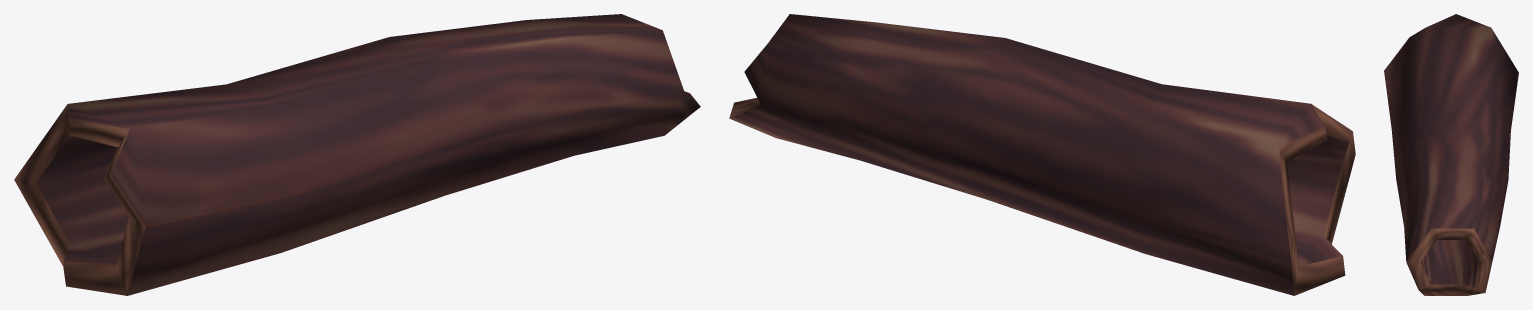
The model's file is pine-log-40.glb.
3 renders of one model, left to right at view 1: azimuth 30°, elevation 25°; view 2: azimuth 150°, elevation 25°; view 3: azimuth 270°, elevation 25°, orthographic. The views are drawn at different scales.
Parts seen in each view (by area): view 1: pine_log_40; view 2: pine_log_40; view 3: pine_log_40.
Boxes of the visible parts, box(x1,y1,x2,y2) form: pine_log_40: box(14, 14, 700, 295); pine_log_40: box(729, 14, 1355, 295); pine_log_40: box(1384, 14, 1518, 295).
Bounding box in the file's own units: 14.04 × 3.59 × 3.94.
1 material, 1 textured.
